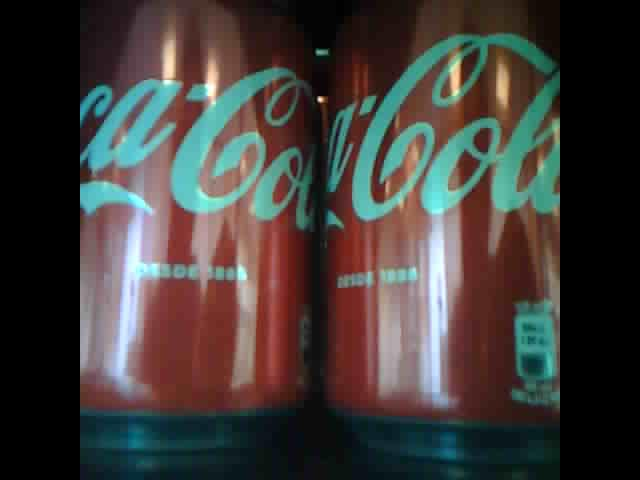coca cola: (77, 2, 318, 453), (319, 3, 559, 432)
